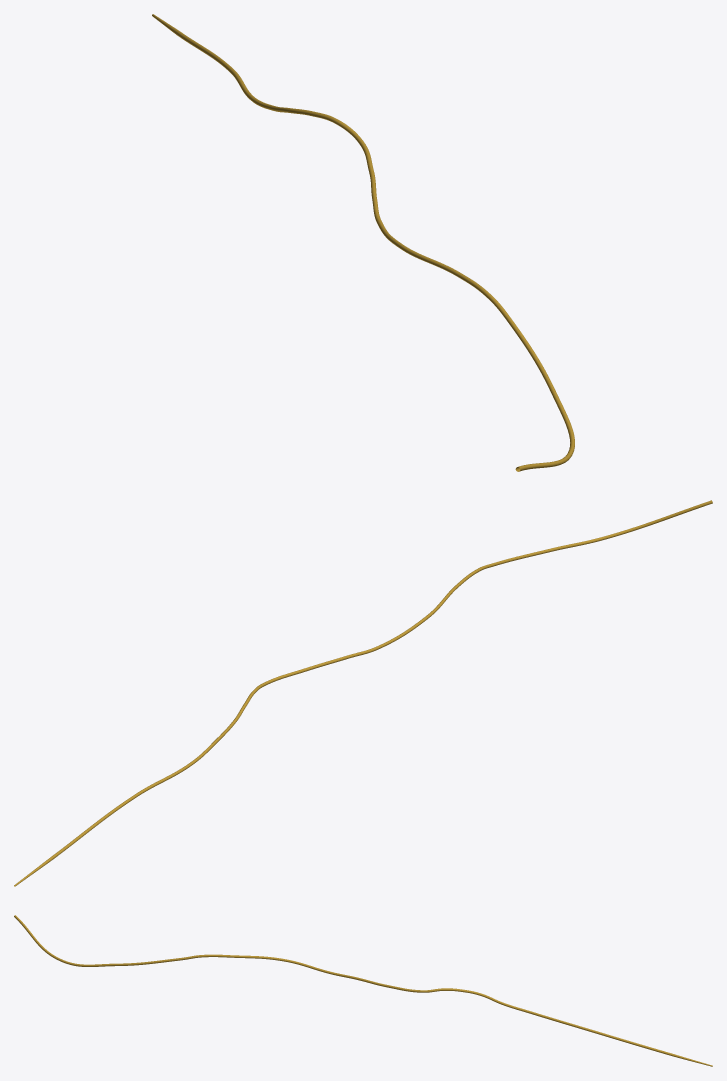
3 renders of one model, top to bottom at view 1: azimuth 30°, elevation 25°; view 2: azimuth 150°, elevation 25°; view 3: azimuth 270°, elevation 25°, orthographic. The views are drawn at different scales.
Parts seen in each view (by area): view 1: 左侧正中神经; view 2: 左侧正中神经; view 3: 左侧正中神经.
Boxes of the visible parts, bbox=[...] form: 左侧正中神经: bbox=[152, 14, 574, 471]; 左侧正中神经: bbox=[14, 500, 712, 886]; 左侧正中神经: bbox=[14, 915, 712, 1066].
Bounding box in the file's own units: 0.2262 × 0.091 × 0.8165.
